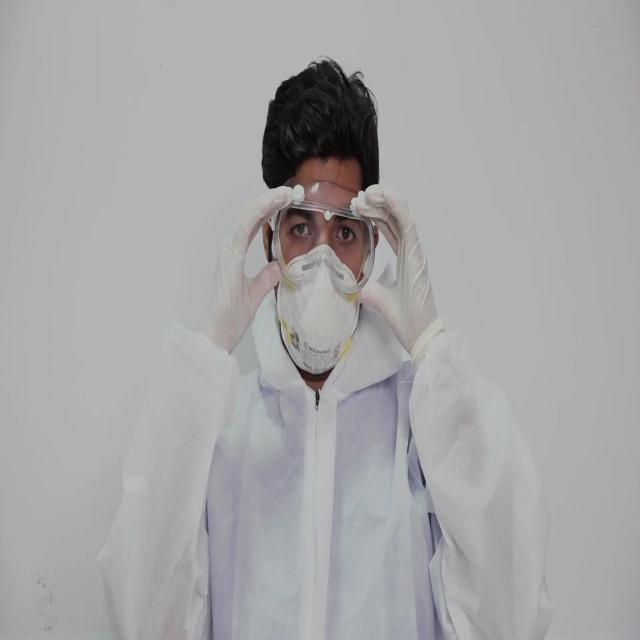Coverall: (99, 322, 554, 640)
Gloves: (199, 186, 294, 355), (357, 184, 439, 358)
Goggles: (270, 178, 376, 301)
Mask: (276, 243, 360, 374)
